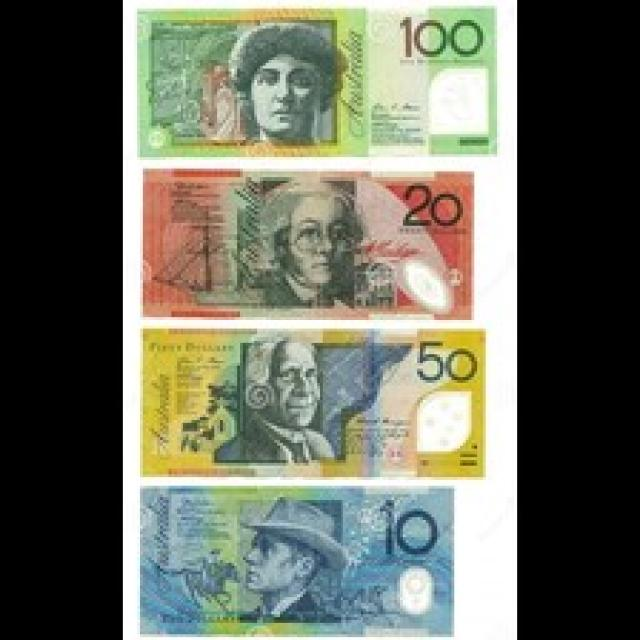banknote: (123, 0, 502, 161), (140, 173, 480, 320), (142, 332, 484, 475), (137, 490, 456, 638)
